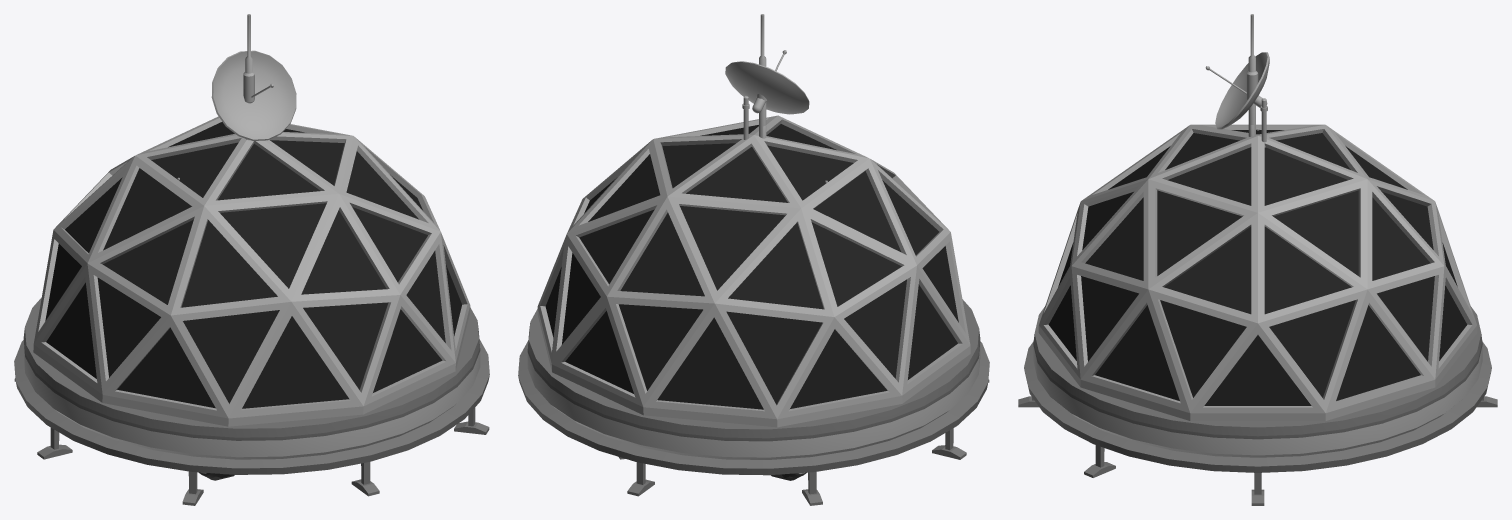
Rendered from moonbase.glb.
3 renders of one model, left to right at view 1: azimuth 30°, elevation 25°; view 2: azimuth 150°, elevation 25°; view 3: azimuth 270°, elevation 25°, orthographic.
Parts seen in each view (by area): view 1: GeodesicDome, Roof_Radar, Roof_Antenna; view 2: GeodesicDome, Roof_Radar, Roof_Antenna; view 3: GeodesicDome, Roof_Radar, Roof_Antenna.
Boxes of the visible parts, box(x1,y1,x2,y2) form: GeodesicDome: box(14, 116, 489, 505); Roof_Radar: box(211, 50, 296, 140); Roof_Antenna: box(243, 14, 254, 103); GeodesicDome: box(518, 115, 989, 505); Roof_Radar: box(725, 50, 809, 139); Roof_Antenna: box(742, 14, 766, 139); GeodesicDome: box(1018, 124, 1497, 505); Roof_Radar: box(1205, 52, 1269, 147); Roof_Antenna: box(1246, 14, 1267, 142).
Size of the model in its own units: 8.53 by 7.76 by 8.53.
Materials: 2 (2 with a texture image).
